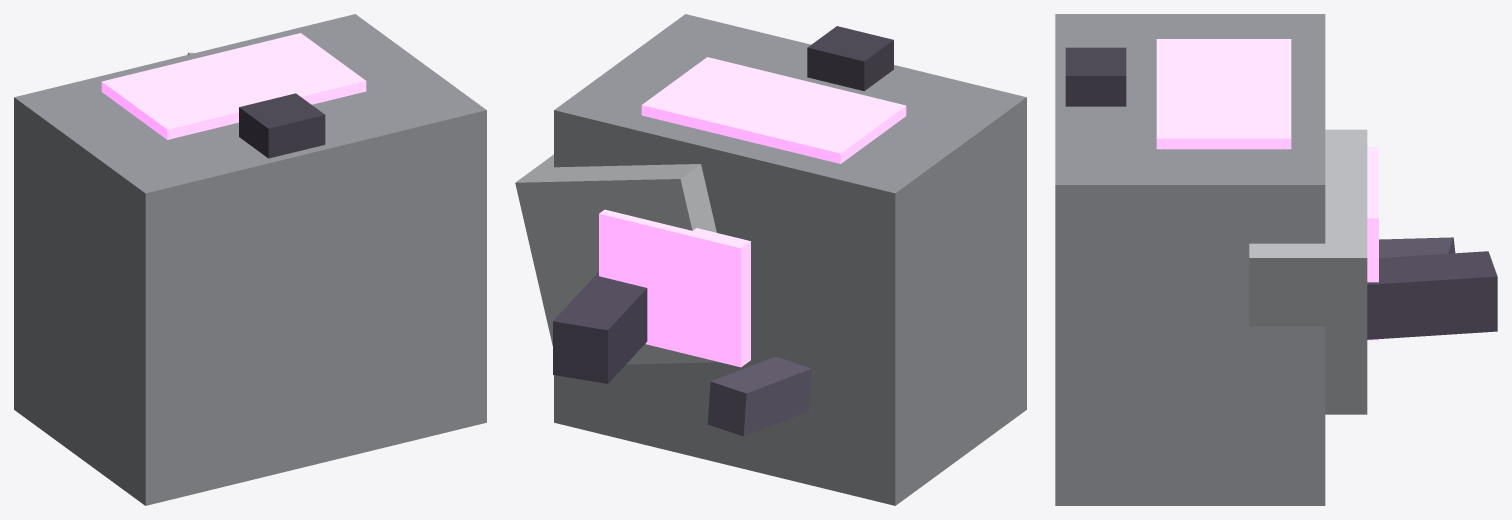
The model's file is obsidian_vein.glb.
3 renders of one model, left to right at view 1: azimuth 30°, elevation 25°; view 2: azimuth 150°, elevation 25°; view 3: azimuth 270°, elevation 25°, orthographic. The views are drawn at different scales.
Parts seen in each view (by area): view 1: Rock, VeinF, Chip; view 2: Rock, Rock2, VeinT, VeinF, Shard1, Shard2, Chip; view 3: Rock, Rock2, VeinF, Shard1, Chip, VeinT, Shard2.
Boxes of the visible parts, x1,y1,x2,y2 form: Rock: (14,14,486,505); VeinF: (101,33,366,139); Chip: (239,93,325,158); Rock: (554,14,1026,505); Rock2: (515,154,718,364); VeinT: (599,209,750,367); VeinF: (641,57,906,163); Shard1: (553,272,647,383); Shard2: (707,356,811,436); Chip: (807,26,893,91); Rock: (1055,14,1325,505); Rock2: (1249,129,1367,414); VeinF: (1156,39,1291,149); Shard1: (1367,251,1497,339); Chip: (1065,47,1126,106); VeinT: (1367,147,1378,340); Shard2: (1379,237,1455,257).
Size of the model in its own units: 1.26 by 1.15 by 1.31.
